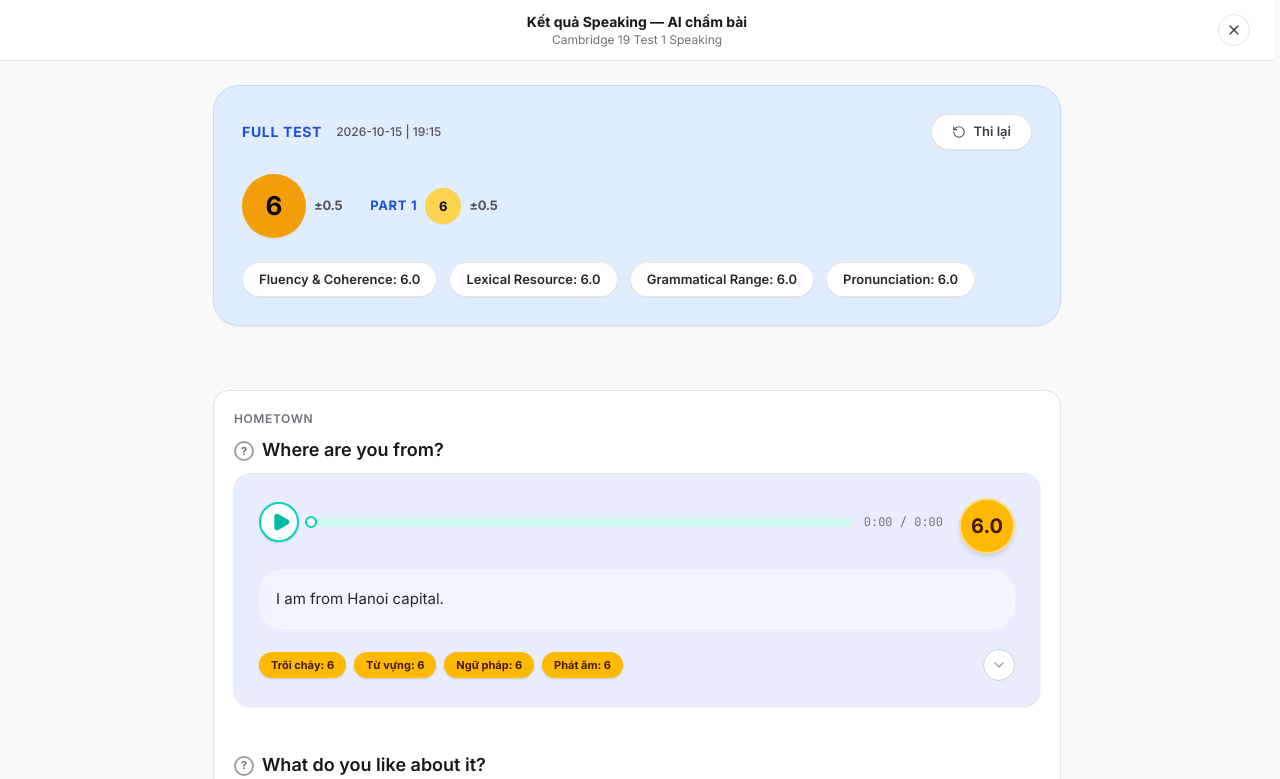
Test: SpeakingExam Part 2 flow › renders result view: omits CorrectionSummary text and displays unanswered questions with score 0
Check: the heading "? Where are you from?" is shown, box [234,439,444,461]
Check: the text "I am from Hanoi capital." is shown, box [276,589,444,608]
# Click to drop down / expand both questions
Click the button named "Cải thiện câu này" at [999, 665], box [983,649,1015,681]
(page scrolled)
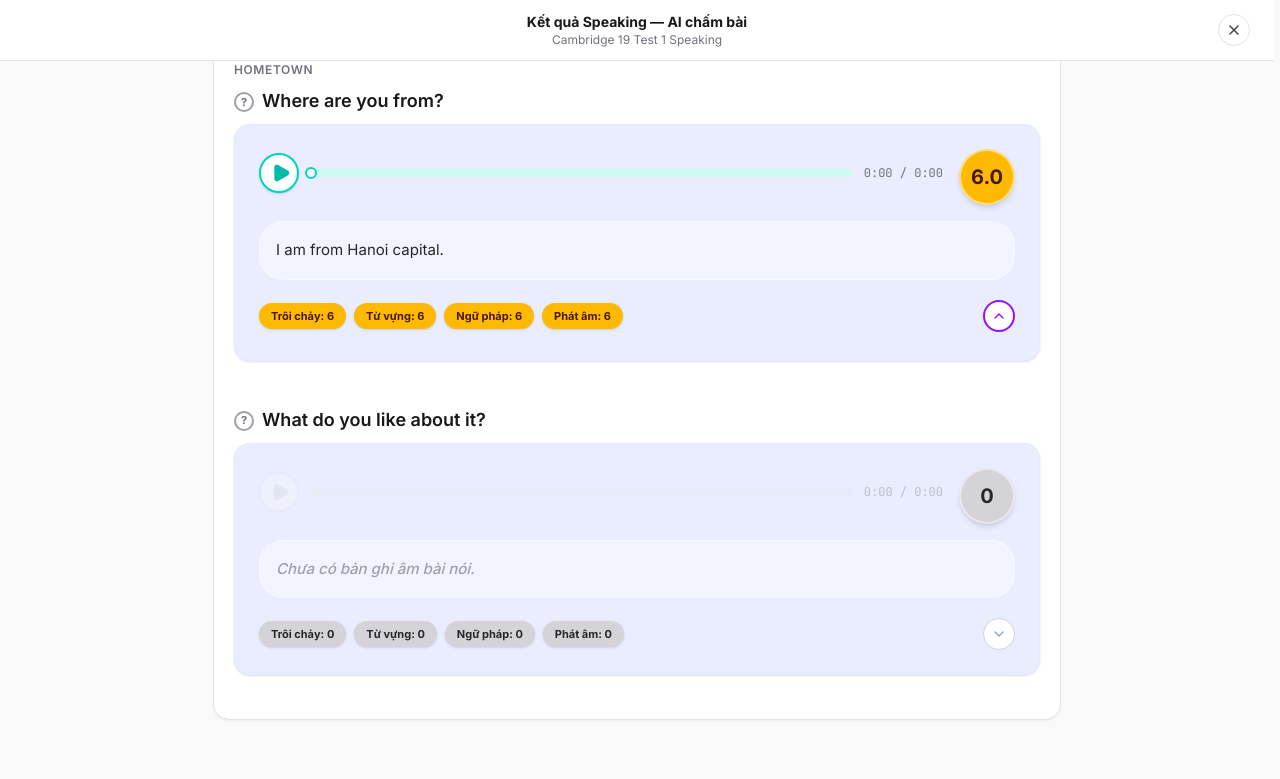
Click the 2nd button named "Cải thiện câu này" at [999, 634], box [983,618,1015,650]
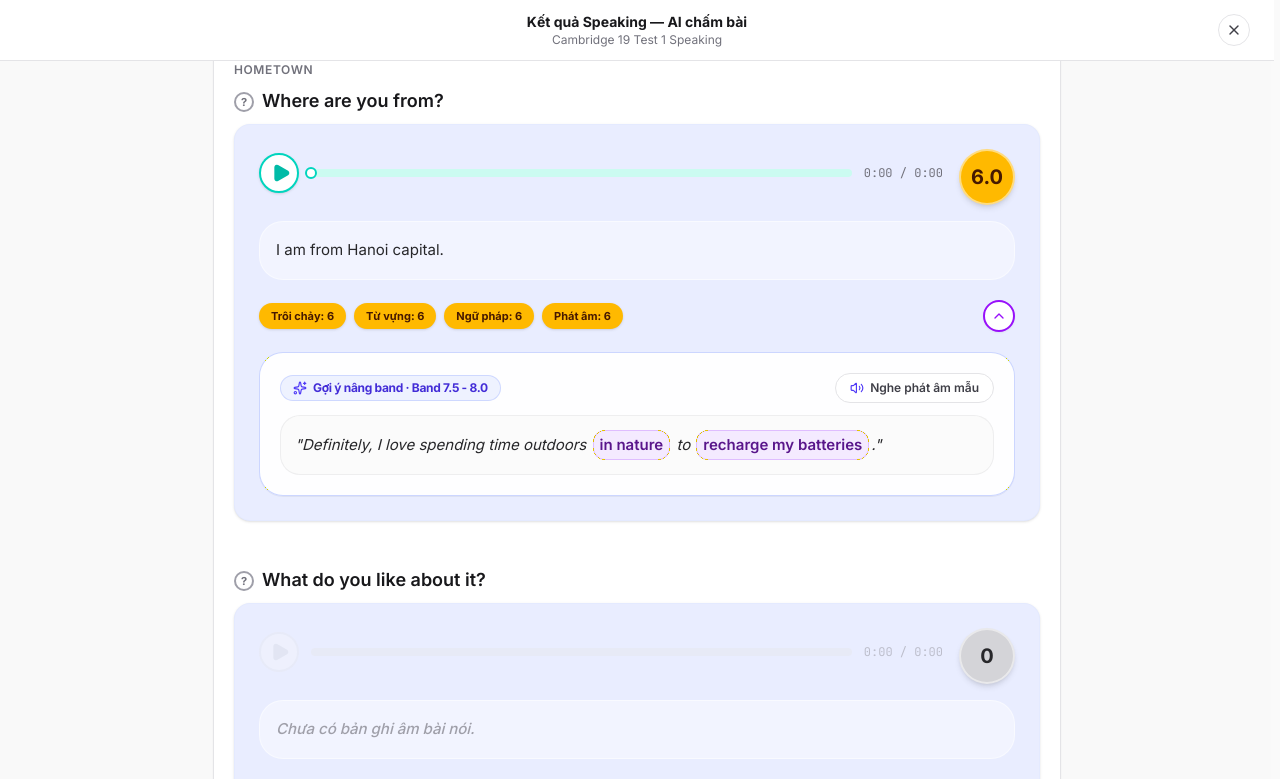
Check: the text "Gợi ý nâng band · Band 7.5 - 8.0" is shown, box [280,375,501,401]
Check: the text "Definitely, I love spending time outdoors" is shown 2 times
Check: the text "recharge my batteries" is shown 2 times
# Click toggleButton[0] again to collapse it
Click the 1st button named "Cải thiện câu này" at [999, 316], box [983,300,1015,332]
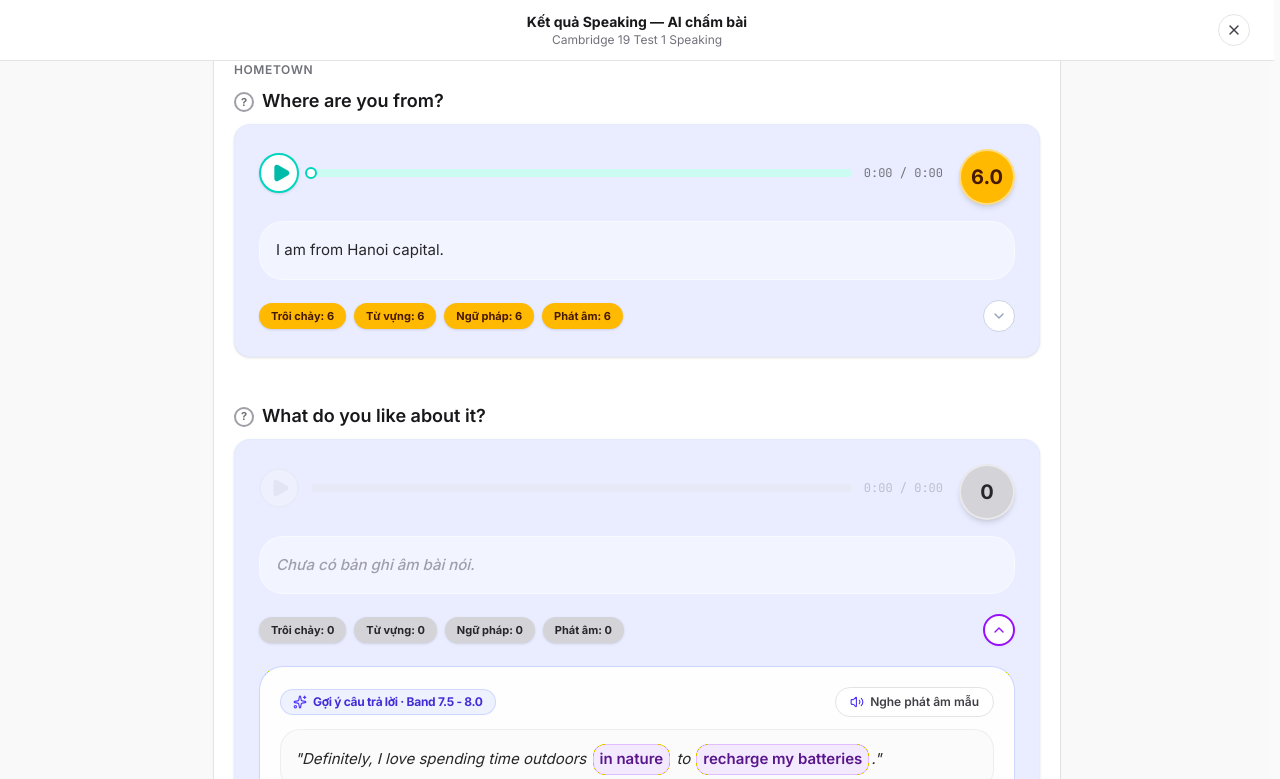
Check: the button named "Đóng" is shown, box [1218,14,1250,46]
Check: the text "Gợi ý nâng band · Band 7.5 - 8.0" is gone
